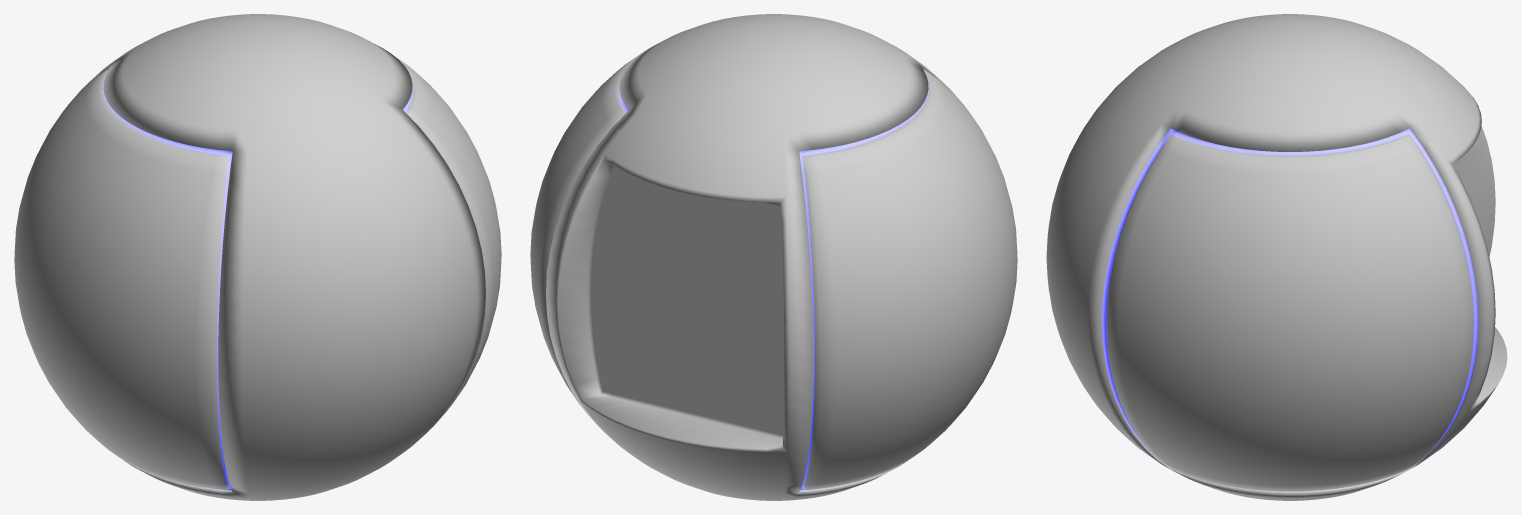
File: Metal_Ball.fbx
The picture shows the model from 3 angles, left to right: view 1: azimuth 30°, elevation 25°; view 2: azimuth 150°, elevation 25°; view 3: azimuth 270°, elevation 25°; orthographic projection.
Visible parts, largest first — view 1: Metal Sphere; view 2: Metal Sphere; view 3: Metal Sphere.
Boxes of the visible parts, left/top/right/bottom form: Metal Sphere: left=14, top=14, right=501, bottom=500; Metal Sphere: left=530, top=14, right=1017, bottom=500; Metal Sphere: left=1046, top=14, right=1507, bottom=500.
Size of the model in its own units: 200 by 189 by 200.
